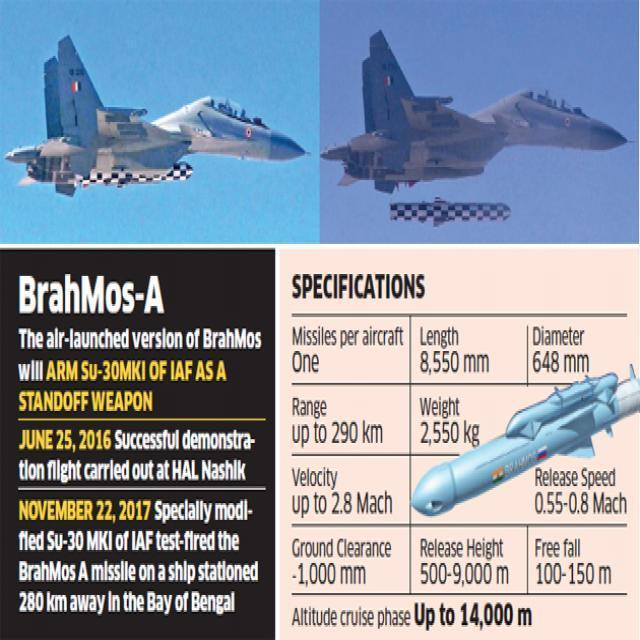Missile: (387, 188, 514, 232)
